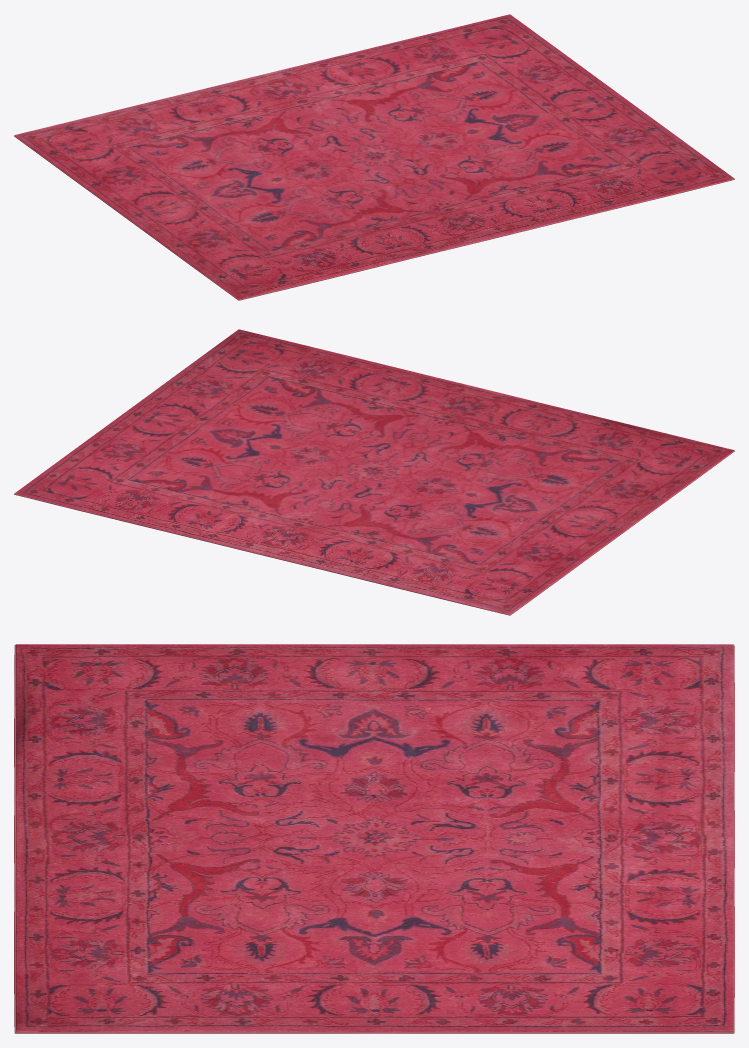
File: B071W2XLSC.glb
3 renders of one model, top to bottom at view 1: azimuth 30°, elevation 25°; view 2: azimuth 150°, elevation 25°; view 3: azimuth 270°, elevation 25°, orthographic. The views are drawn at different scales.
Parts seen in each view (by area): view 1: RootNode; view 2: RootNode; view 3: RootNode.
Part boxes in pixels (x1=…): RootNode: x1=14, y1=14, x2=734, y2=300; RootNode: x1=14, y1=329, x2=734, y2=615; RootNode: x1=14, y1=644, x2=734, y2=1033.
Bounding box in the file's own units: 2.93 × 0.0118 × 2.3.
Materials: 1 (1 with a texture image).
